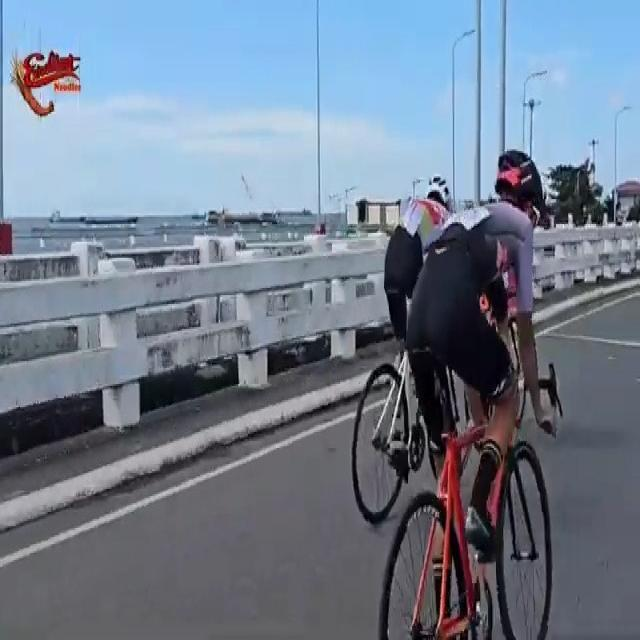bike: (376, 141, 556, 640), (350, 172, 476, 530)
